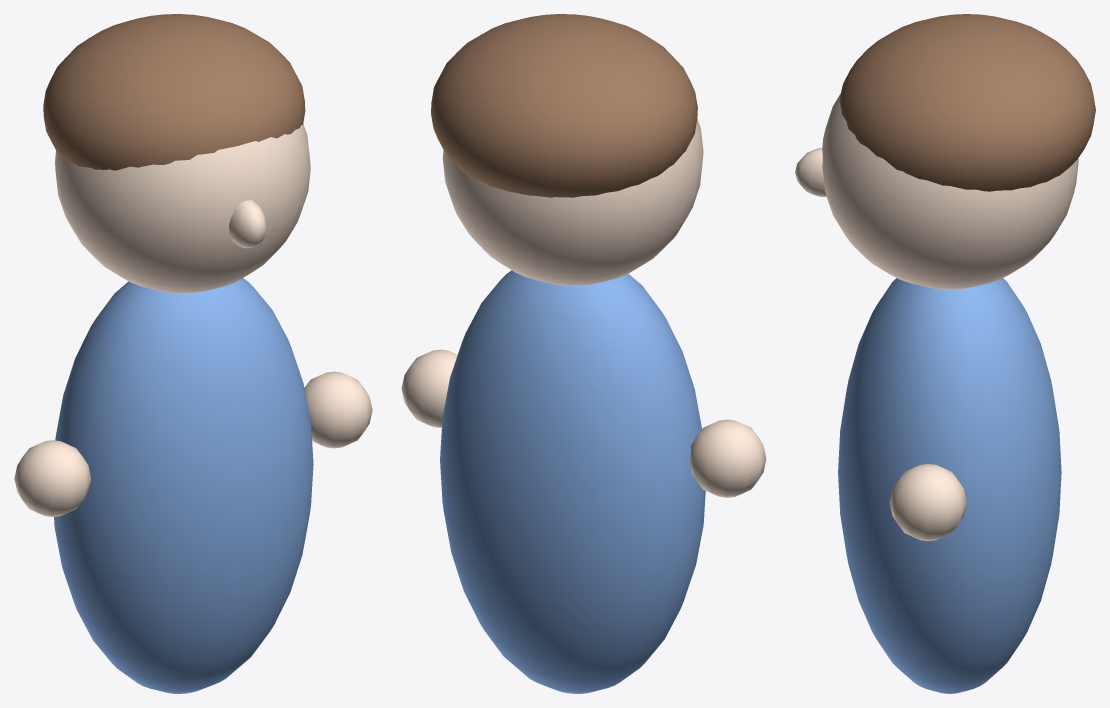
Rendered from Hero.gltf.
3 renders of one model, left to right at view 1: azimuth 30°, elevation 25°; view 2: azimuth 150°, elevation 25°; view 3: azimuth 270°, elevation 25°, orthographic.
Parts seen in each view (by area): view 1: Body, Skin, Hair; view 2: Body, Hair, Skin; view 3: Body, Hair, Skin.
Boxes of the visible parts, box(x1,y1,x2,y2) form: Body: box(54, 278, 313, 693); Skin: box(14, 124, 372, 516); Hair: box(43, 14, 305, 170); Body: box(440, 270, 705, 693); Hair: box(431, 14, 697, 197); Skin: box(401, 119, 766, 497); Body: box(838, 278, 1061, 693); Hair: box(839, 14, 1095, 191); Skin: box(795, 94, 1078, 541).
Bounding box in the file's own units: 0.94 × 1.68 × 0.7.
